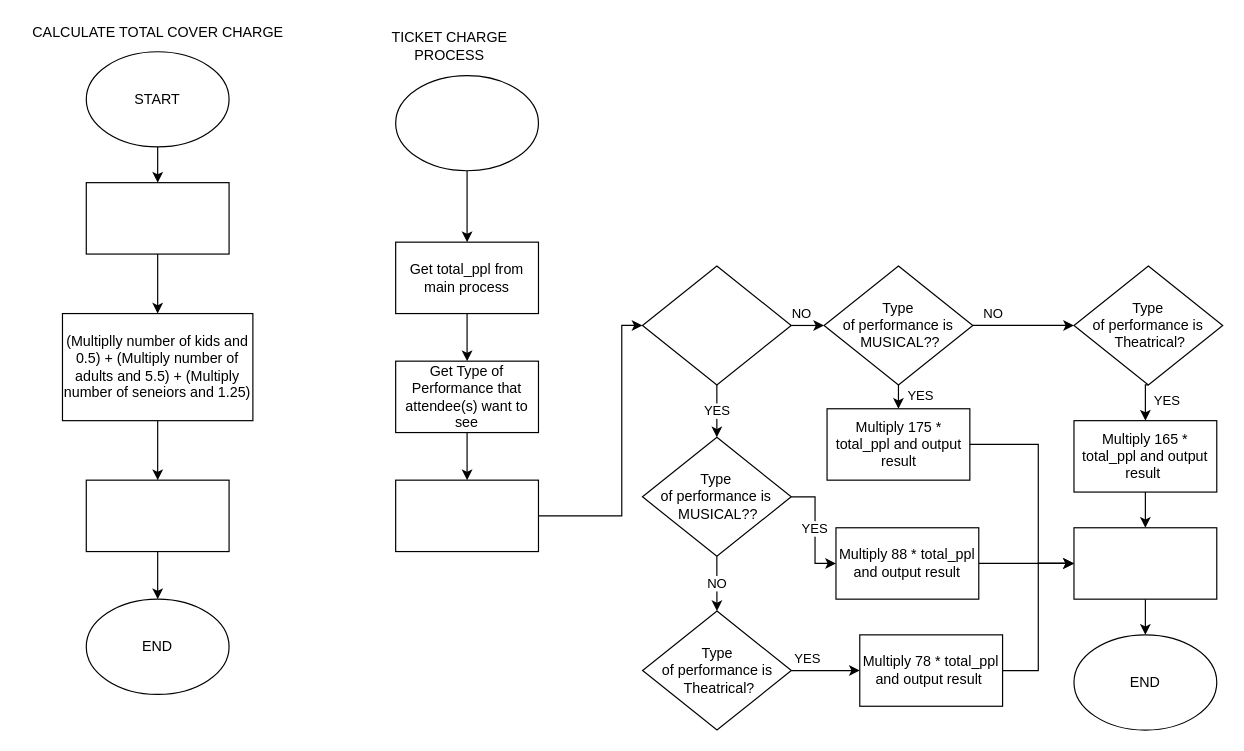
Image size: 1244x751. Some labels were removed from this diagram. The shapes that lost their labels are listed below. From the top down, each one's centre as x and y in pixels, then its label:
point (466, 122): STSRT
point (157, 217): Get the number of adults, seniors and children from Main process
point (716, 325): TIme period is MATINEE??
point (157, 515): Output result and go to main process
point (466, 515): Get time period from main process
point (1145, 563): GO TO MAIN_PROCESS
